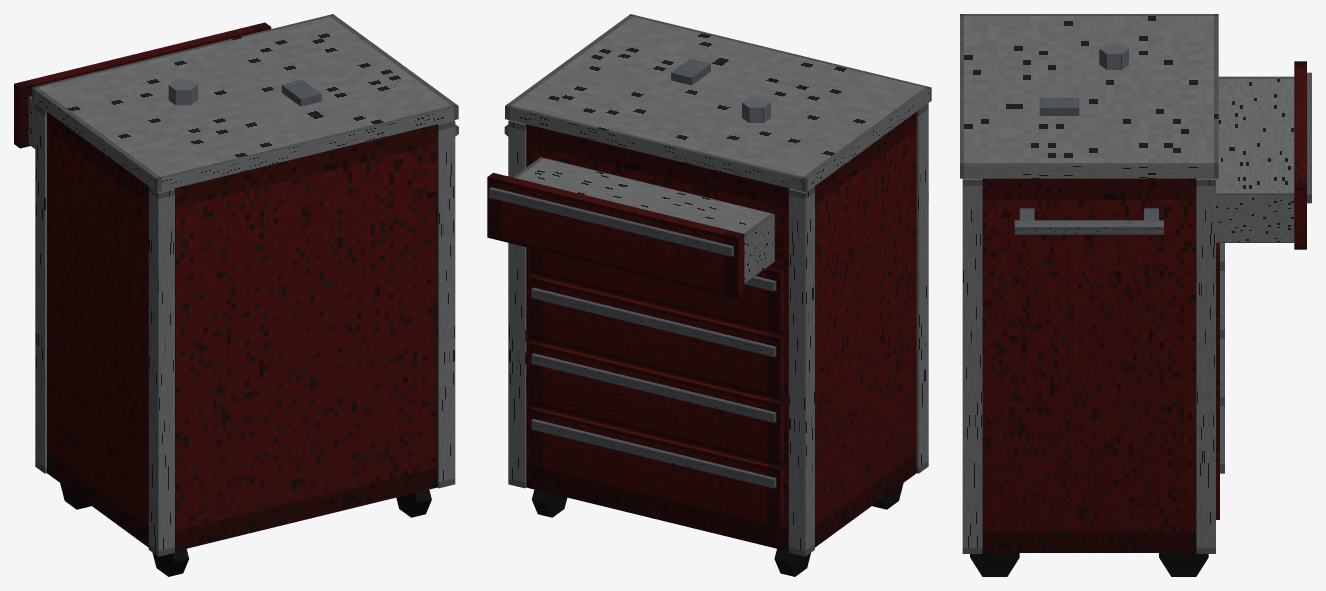
File: tool_chest_cart_medbay_clean.glb
3 renders of one model, left to right at view 1: azimuth 30°, elevation 25°; view 2: azimuth 150°, elevation 25°; view 3: azimuth 270°, elevation 25°, orthographic. The views are drawn at different scales.
Parts seen in each view (by area): view 1: tool_chest_cart_medbay_clean; view 2: tool_chest_cart_medbay_clean; view 3: tool_chest_cart_medbay_clean.
Boxes of the visible parts, x1,y1,x2,y2 form: tool_chest_cart_medbay_clean: (14, 14, 458, 576); tool_chest_cart_medbay_clean: (487, 14, 931, 576); tool_chest_cart_medbay_clean: (960, 14, 1311, 576).
Size of the model in its own units: 0.7839 by 0.9733 by 0.7075.
Materials: 5 (5 with a texture image).
